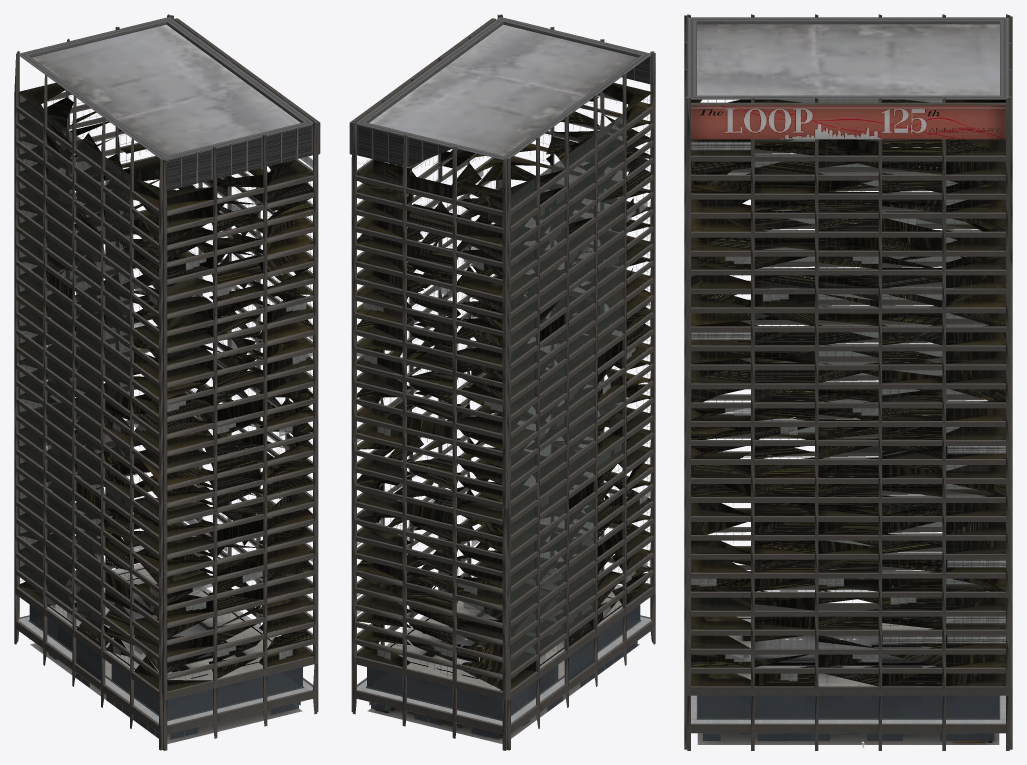
The model's file is toa-van-phong.glb.
3 views of the same model, side by side, from view 1: azimuth 30°, elevation 25°; view 2: azimuth 150°, elevation 25°; view 3: azimuth 270°, elevation 25° (orthographic). The views are drawn at different scales.
Parts seen in each view (by area): view 1: Cube.002, Cube.012, Cube.005, Cube.009, Cube.007, Cube.006, Cube.001, Cube.003; view 2: Cube.002, Cube.012, Cube.005, Cube.001, Cube.007, Cube.009, Cube.006, Cube.003; view 3: Cube.002, Cube.012, Cube.004, Cube.001, Cube.007, Cube.005, Cube.003, Cube.009.
Boxes of the visible parts, left/top/right/bottom form: Cube.002: left=14, top=14, right=320, bottom=750; Cube.012: left=18, top=83, right=312, bottom=691; Cube.005: left=18, top=94, right=129, bottom=629; Cube.009: left=30, top=566, right=302, bottom=743; Cube.007: left=29, top=605, right=302, bottom=739; Cube.006: left=165, top=124, right=312, bottom=190; Cube.001: left=19, top=92, right=312, bottom=687; Cube.003: left=20, top=152, right=312, bottom=665; Cube.002: left=349, top=14, right=655, bottom=750; Cube.012: left=357, top=83, right=651, bottom=690; Cube.005: left=511, top=115, right=622, bottom=672; Cube.001: left=357, top=94, right=651, bottom=688; Cube.007: left=367, top=605, right=640, bottom=739; Cube.009: left=367, top=572, right=639, bottom=743; Cube.006: left=357, top=56, right=650, bottom=167; Cube.003: left=357, top=116, right=651, bottom=736; Cube.002: left=684, top=14, right=1012, bottom=750; Cube.012: left=691, top=99, right=1005, bottom=686; Cube.004: left=691, top=105, right=1005, bottom=139; Cube.001: left=691, top=100, right=1005, bottom=686; Cube.007: left=697, top=695, right=999, bottom=740; Cube.005: left=754, top=99, right=989, bottom=585; Cube.003: left=691, top=99, right=1005, bottom=739; Cube.009: left=697, top=616, right=999, bottom=744.
Bounding box in the file's own units: 0.2869 × 1 × 0.4568.
Materials: 12 (11 with a texture image).
